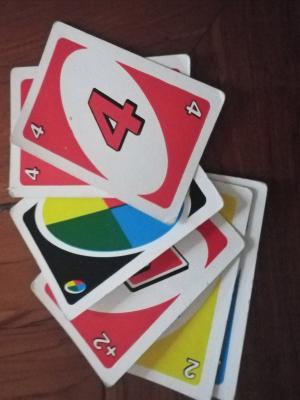-2: (90, 316, 122, 371)
colour: (0, 126, 187, 317)
num_2: (177, 348, 205, 385)
num_4: (24, 116, 55, 148), (22, 164, 46, 185)
red: (1, 22, 227, 226), (60, 211, 261, 392)
yellow: (131, 251, 299, 400)
